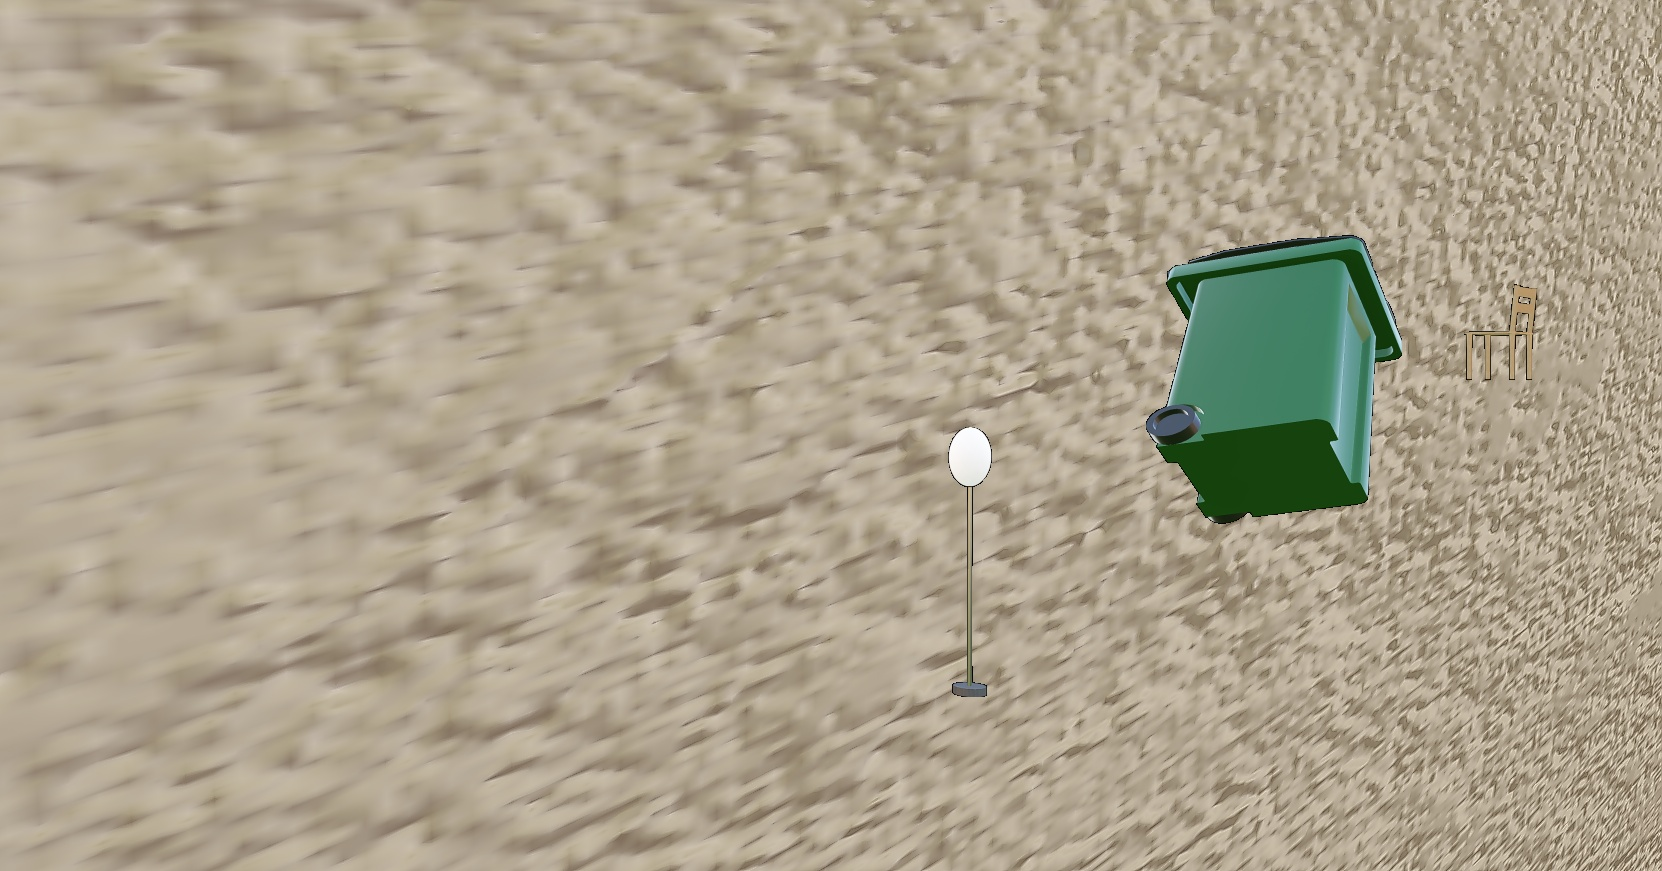contenedor: (1145, 235, 1403, 523)
luz: (948, 426, 991, 698)
silla: (1463, 284, 1538, 381)
